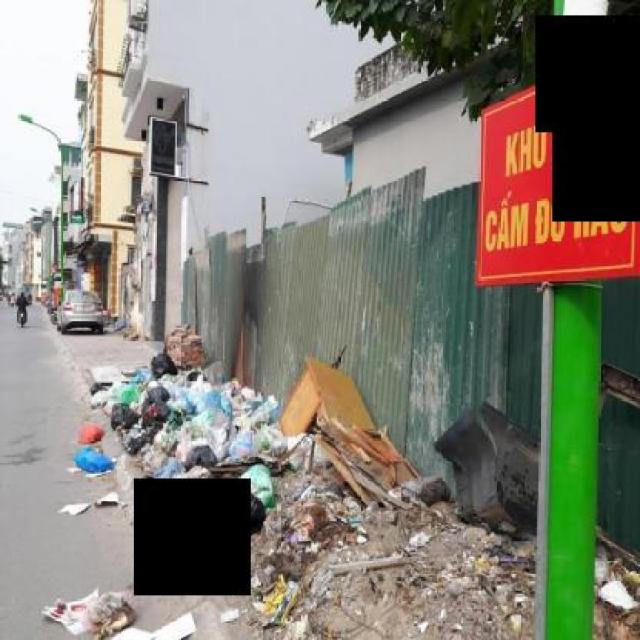plastic bag: (99, 349, 312, 560), (39, 576, 143, 636), (158, 478, 214, 564), (206, 482, 266, 542), (74, 445, 112, 477), (74, 423, 103, 446)
